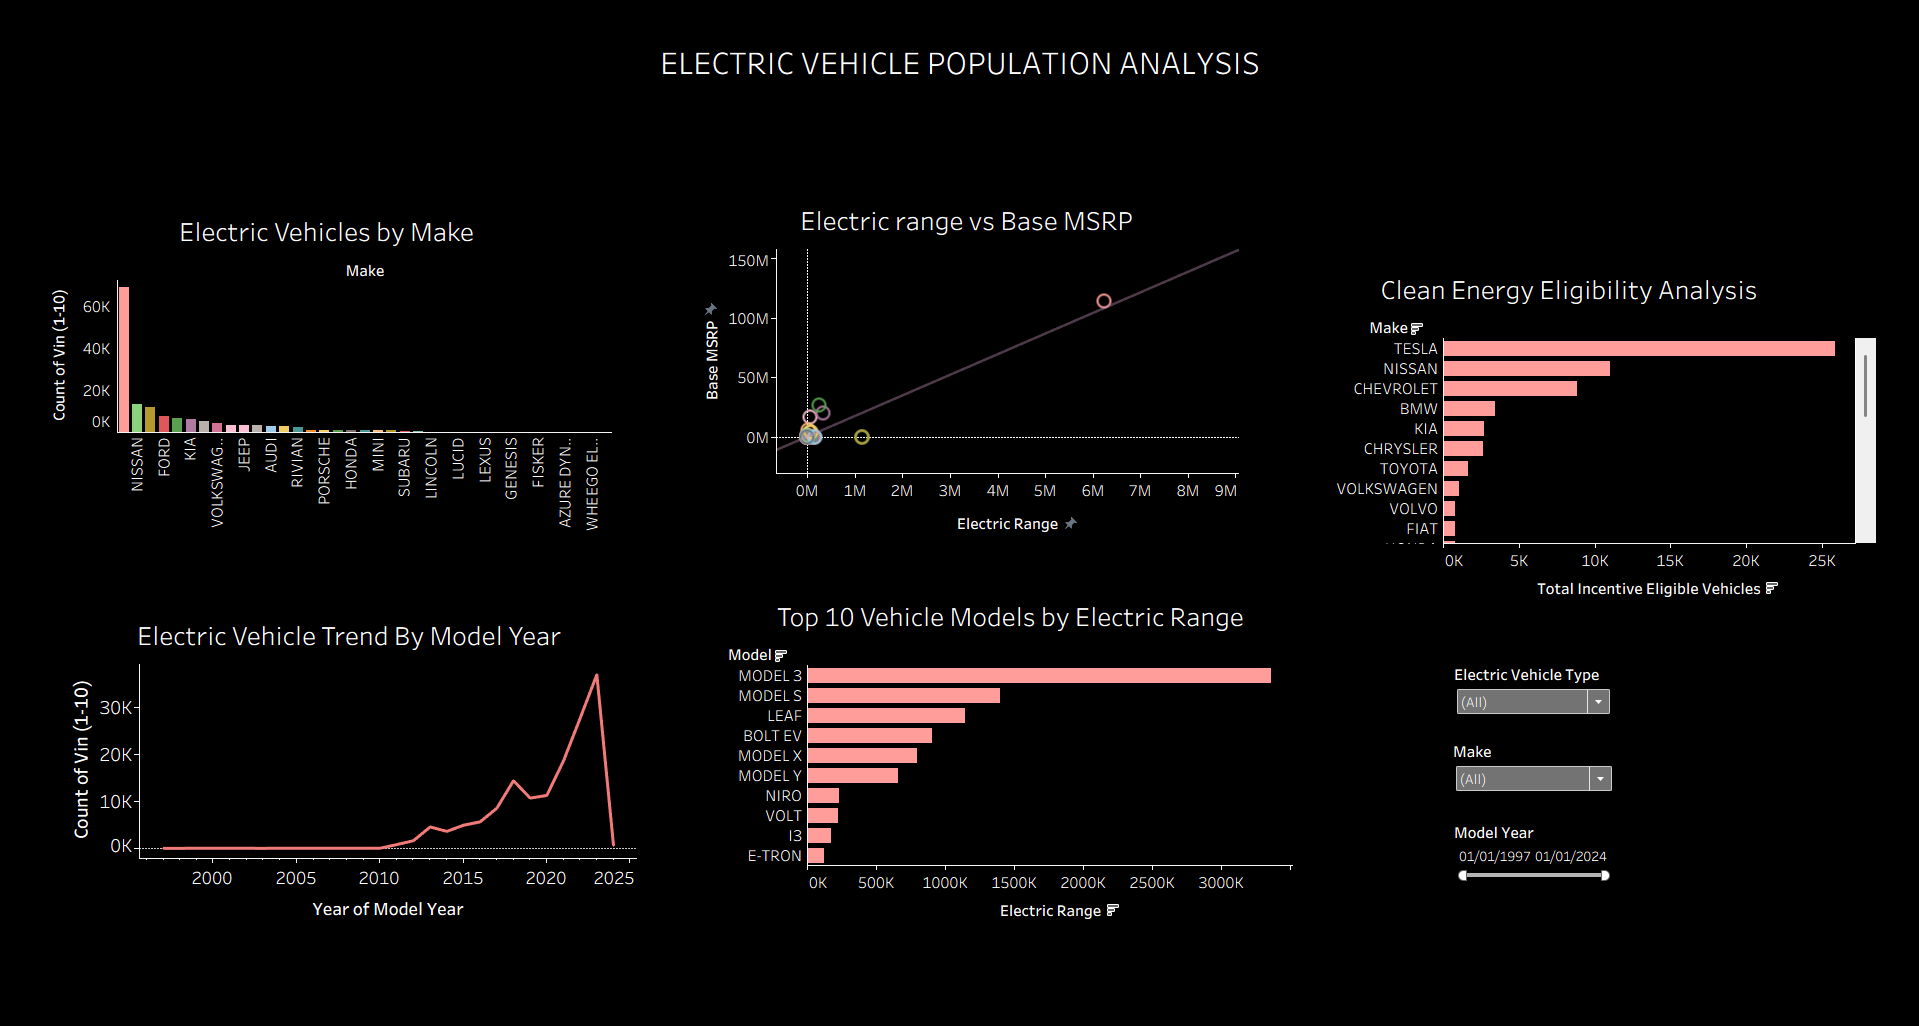

This screenshot's page, from the dashboard's own definition file:
{"tool":"tableau","page":{"name":"Dashboard 1","canvas":[1000,1000],"units":"permille","ordinal":0},"visuals":[{"type":"title","box":[4.2,9.4,991.5,131.6]},{"type":"worksheet","title":"Sheet 2","mark":"Automatic","rows":["Base MSRP"],"cols":["Electric Range"],"box":[361.5,192.7,283.7,320.8]},{"type":"worksheet","title":"Sheet 1","mark":"Automatic","rows":["VIN (1-10)"],"cols":["Make"],"box":[21.1,203.3,297.5,309.1]},{"type":"worksheet","title":"Sheet 5","mark":"Automatic","rows":["Make"],"cols":["Calculation_1722158502887424"],"box":[668.1,258.5,309,332.6]},{"type":"worksheet","title":"Sheet 4","mark":"Automatic","rows":["Model"],"cols":["Electric Range"],"box":[378.4,572.3,295.1,332.6]},{"type":"worksheet","title":"Sheet 3","mark":"Line","rows":["VIN (1-10)"],"cols":["Model Year"],"box":[32,591.1,299.9,299.7]},{"type":"filter","title":"Sheet 1","param":"[federated.1ykbh3t1panr3v12ns86t18fe7be].[none:Electric Vehicle Type:nk]","box":[757.4,638.1,82.6,61.1]},{"type":"filter","title":"Sheet 1","param":"[federated.1ykbh3t1panr3v12ns86t18fe7be].[none:Make:nk]","box":[756.9,712.1,84.2,79.9]},{"type":"filter","title":"Sheet 1","param":"[federated.1ykbh3t1panr3v12ns86t18fe7be].[none:Model Year:qk]","box":[757.4,789.7,83.2,76.4]}]}

Visuals, with their boxes on the dashboard's canvas, which has no fixed pixel size, in thousandths of its width and height (x1, y1, x2, y2). These are canvas units, not pixel positions in the 1919x1026 screenshot, which may show the page scaled, cropped or inside an application window:
title: bbox(4, 9, 996, 141)
"Sheet 2" worksheet: bbox(362, 193, 645, 514)
"Sheet 1" worksheet: bbox(21, 203, 319, 512)
"Sheet 5" worksheet: bbox(668, 258, 977, 591)
"Sheet 4" worksheet: bbox(378, 572, 674, 905)
"Sheet 3" worksheet (Line marks): bbox(32, 591, 332, 891)
"Sheet 1" filter: bbox(757, 638, 840, 699)
"Sheet 1" filter: bbox(757, 712, 841, 792)
"Sheet 1" filter: bbox(757, 790, 841, 866)
